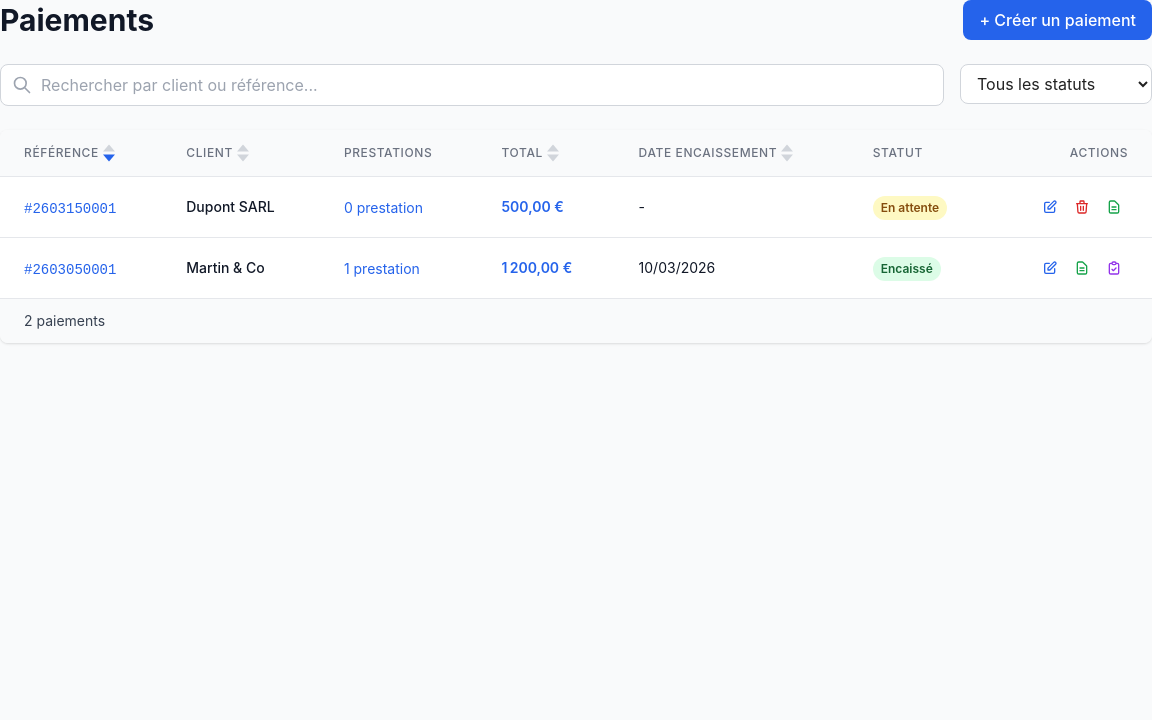
Test: Paiements page › opens the add modal when clicking the add button
Click the button "+ Créer un paiement" at x=1058, y=20, box [963,0,1151,40]
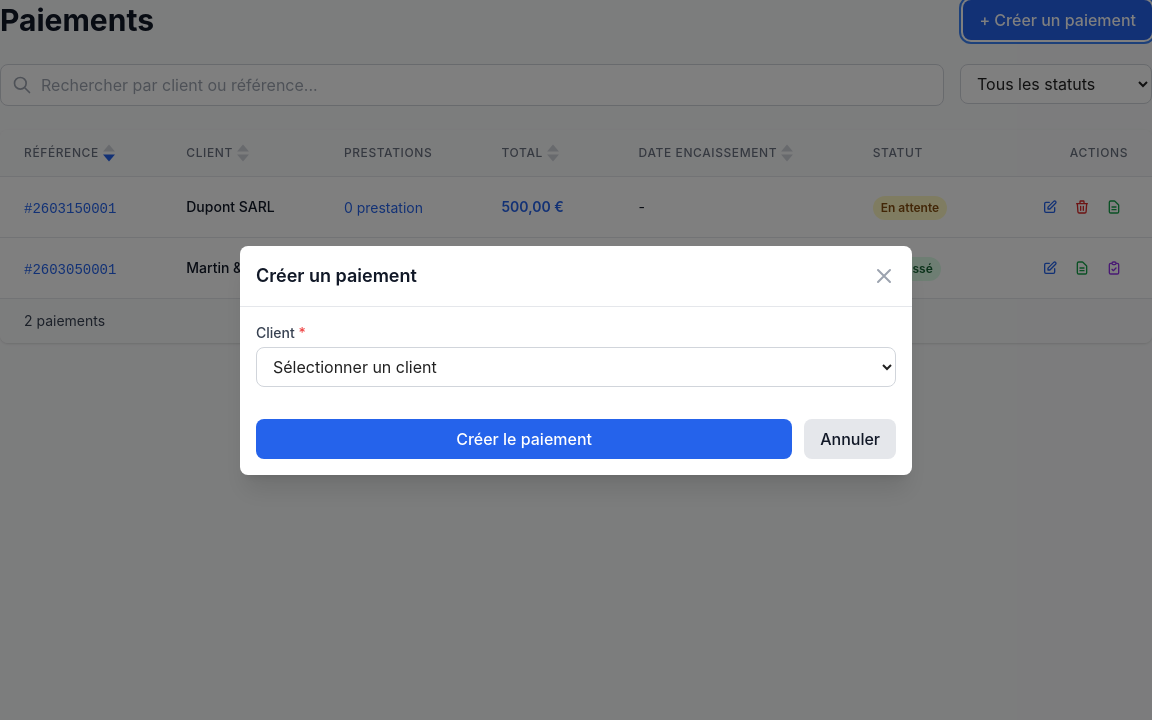
Result: the heading "Créer un paiement" is shown at [256,262,417,290]
